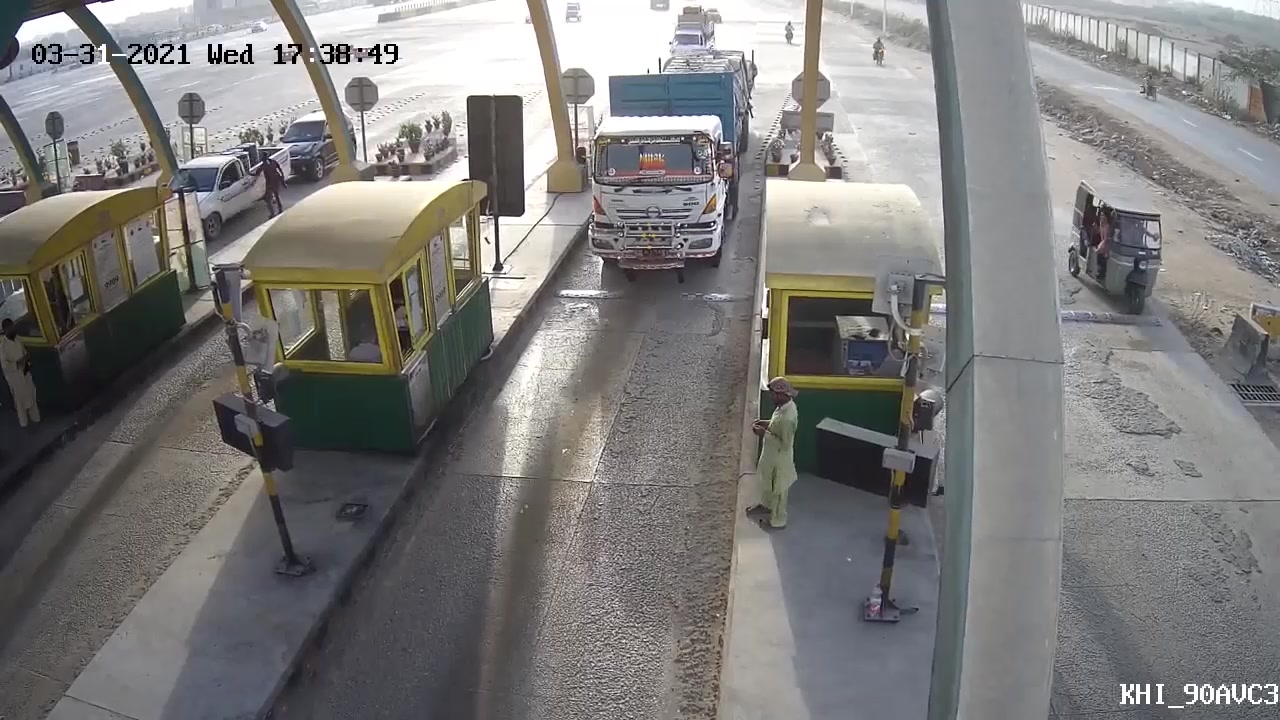F6: (582, 74, 748, 274)
